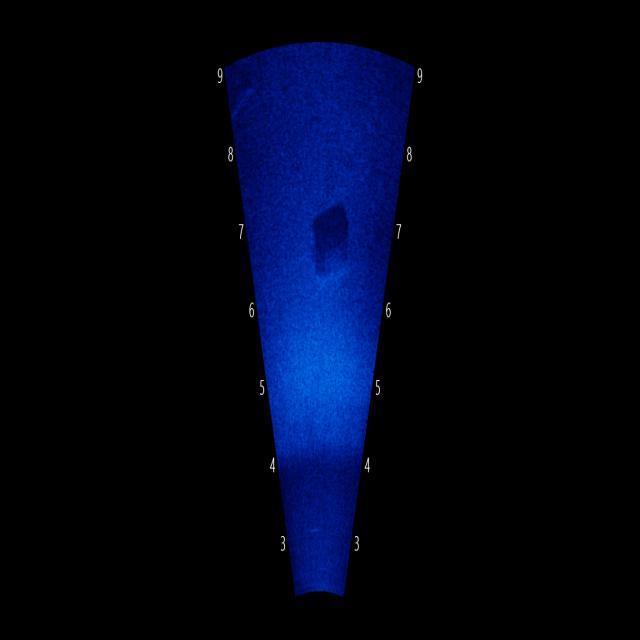square: (305, 194, 358, 300)
